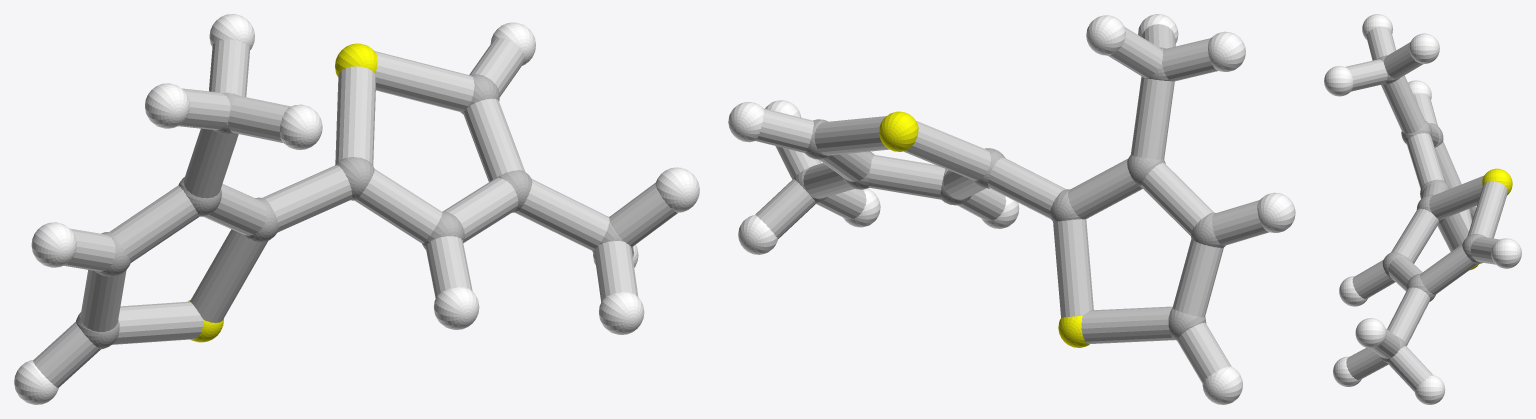
The model's file is Methylthiophene_Phi_20_Theta_290_Methylthiophene.glb.
3 renders of one model, left to right at view 1: azimuth 30°, elevation 25°; view 2: azimuth 150°, elevation 25°; view 3: azimuth 270°, elevation 25°, orthographic. The views are drawn at different scales.
Visible parts, largest first — view 1: grp7965, grp3621, grp1, grp7241; view 2: grp7965, grp3621, grp1, grp7241; view 3: grp7965, grp3621, grp1, grp7241.
Part boxes in pixels (bbox=[...]): grp7965: bbox=[33, 38, 677, 387]; grp3621: bbox=[14, 14, 699, 404]; grp1: bbox=[76, 74, 632, 349]; grp7241: bbox=[188, 43, 377, 342]; grp7965: bbox=[755, 24, 1268, 383]; grp3621: bbox=[728, 14, 1295, 404]; grp1: bbox=[794, 47, 1225, 340]; grp7241: bbox=[879, 111, 1089, 347]; grp7965: bbox=[1345, 26, 1507, 391]; grp3621: bbox=[1324, 14, 1521, 404]; grp1: bbox=[1377, 55, 1485, 363]; grp7241: bbox=[1470, 168, 1512, 270].
Bounding box in the file's own units: 9.55 × 5.38 × 3.85.
